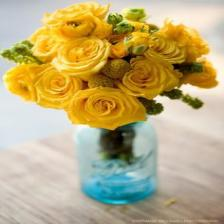yellow: (3, 2, 218, 130), (66, 87, 146, 130)
